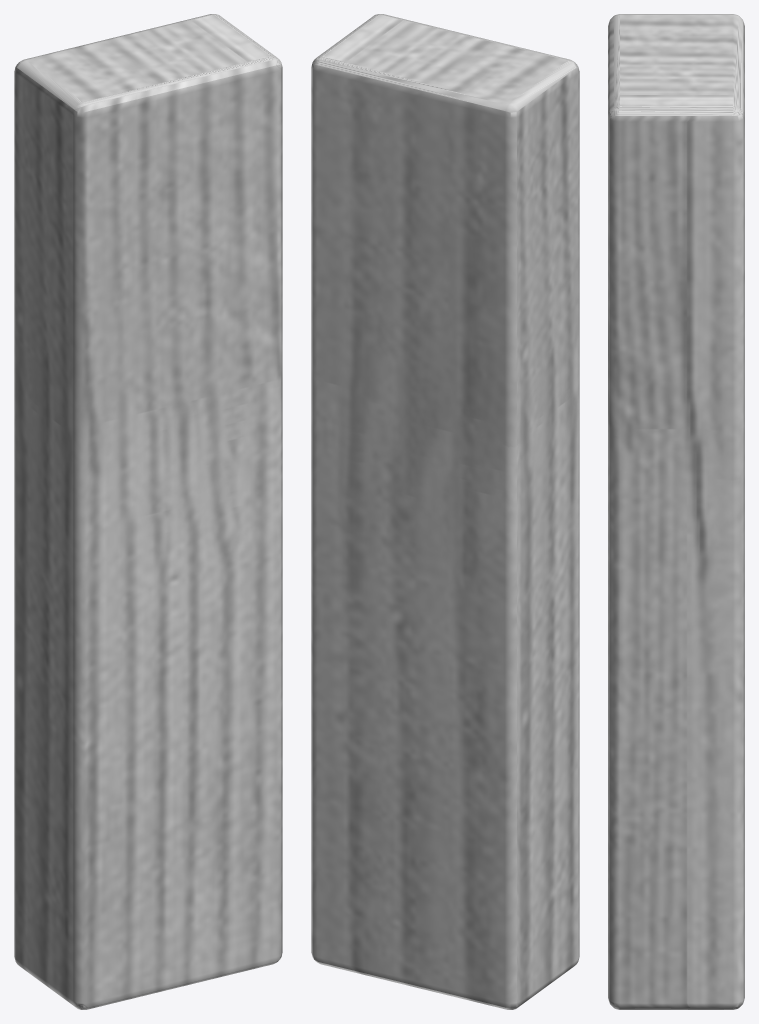
File: Block_ClG.fbx
3 renders of one model, left to right at view 1: azimuth 30°, elevation 25°; view 2: azimuth 150°, elevation 25°; view 3: azimuth 270°, elevation 25°, orthographic.
Visible parts, largest first — view 1: polySurface96; view 2: polySurface96; view 3: polySurface96.
Boxes of the visible parts, x1,y1,x2,y2 form: polySurface96: (14, 14, 282, 1009); polySurface96: (311, 14, 579, 1009); polySurface96: (608, 14, 744, 1009).
Bounding box in the file's own units: 5 × 20.81 × 2.86.
